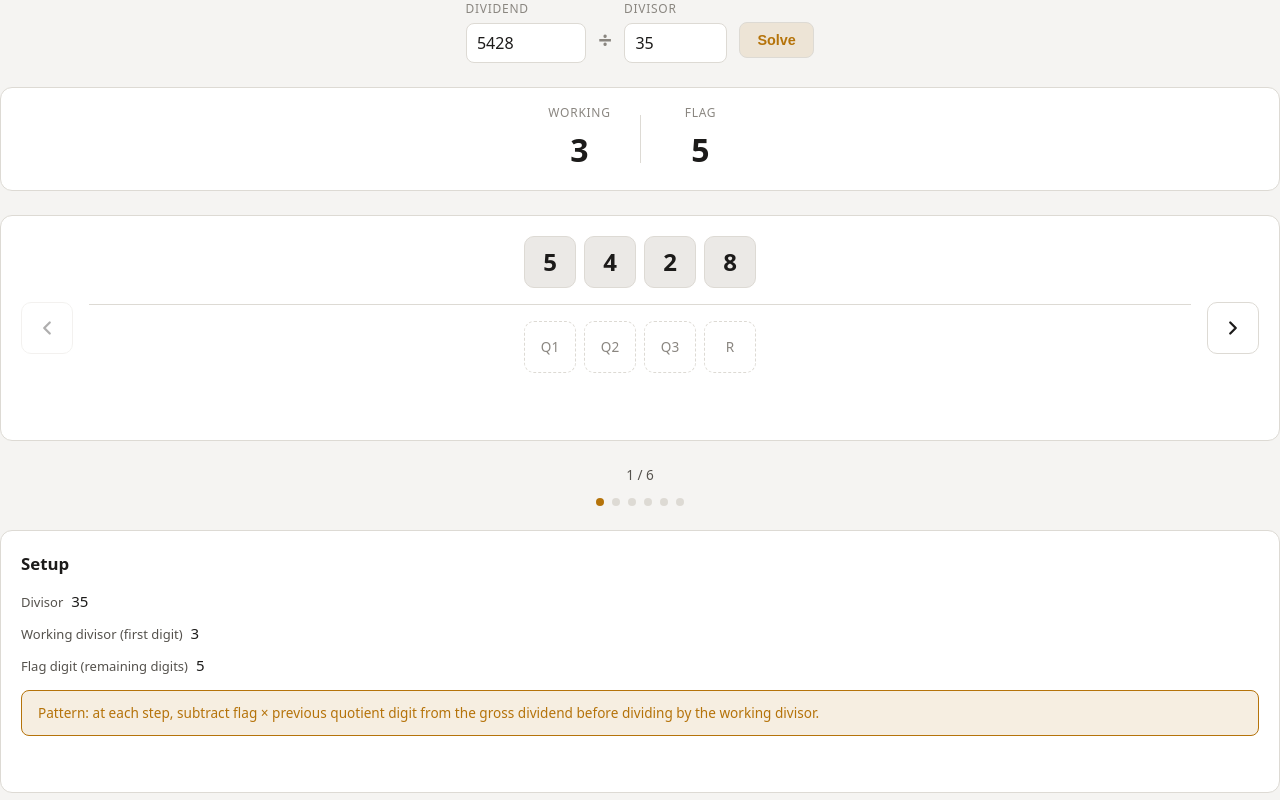
Scenario: DhvajankaPage › shows inline validation errors instead of solving on invalid input
The image size is (1280, 800).
Replace the text in the number field labelled "Dividend" with "0" at (526, 43), box [466,23,586,63]
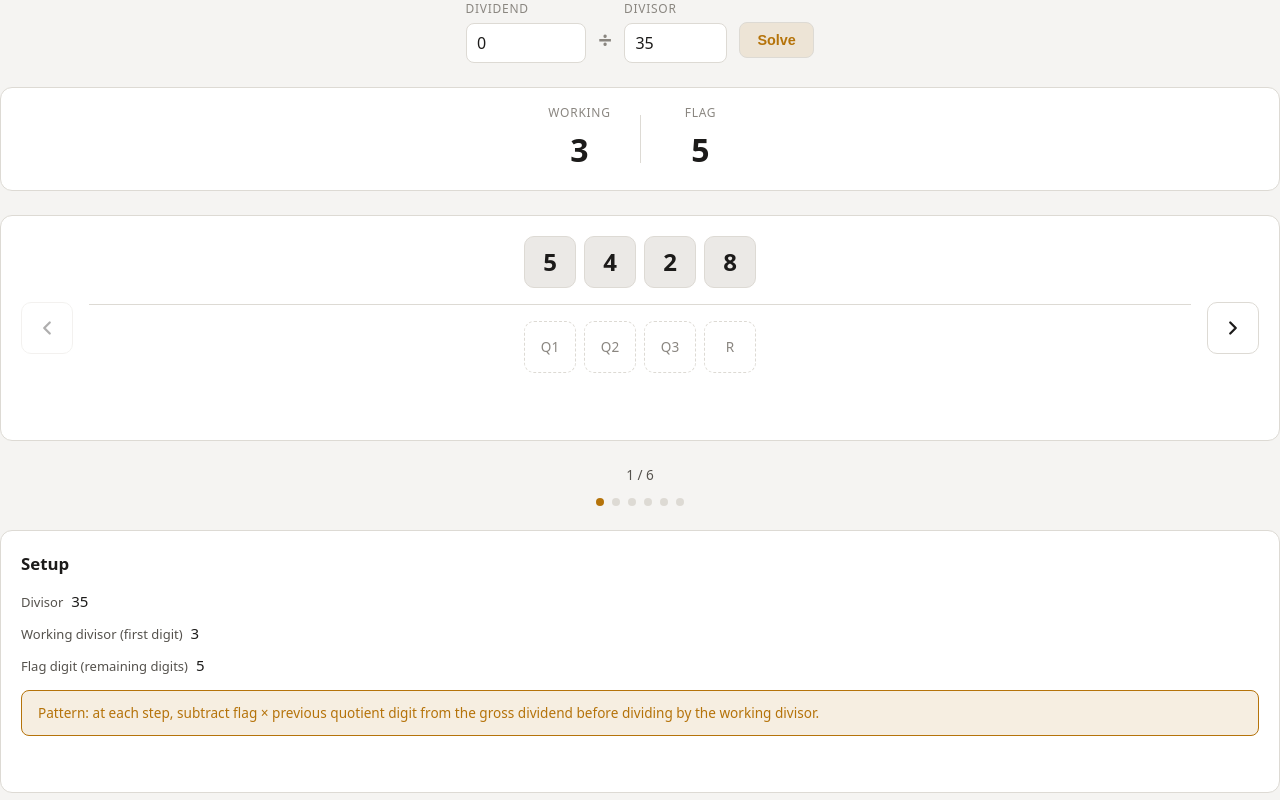
Submit the form, box [466,0,814,63]
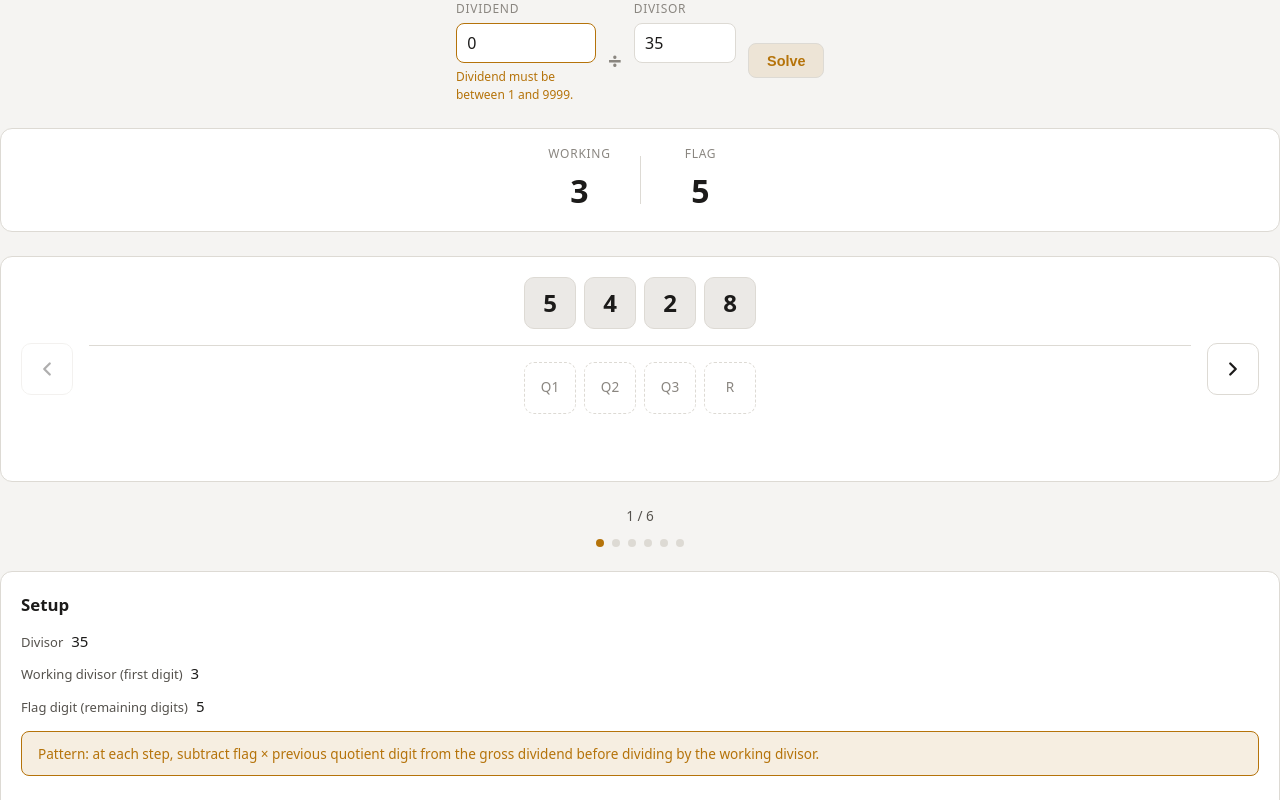
Check: the text "1 / 6" is shown, box [626,506,654,525]
Check: the text "Dividend must be between 1 and 9999." is shown, box [456,68,573,103]
